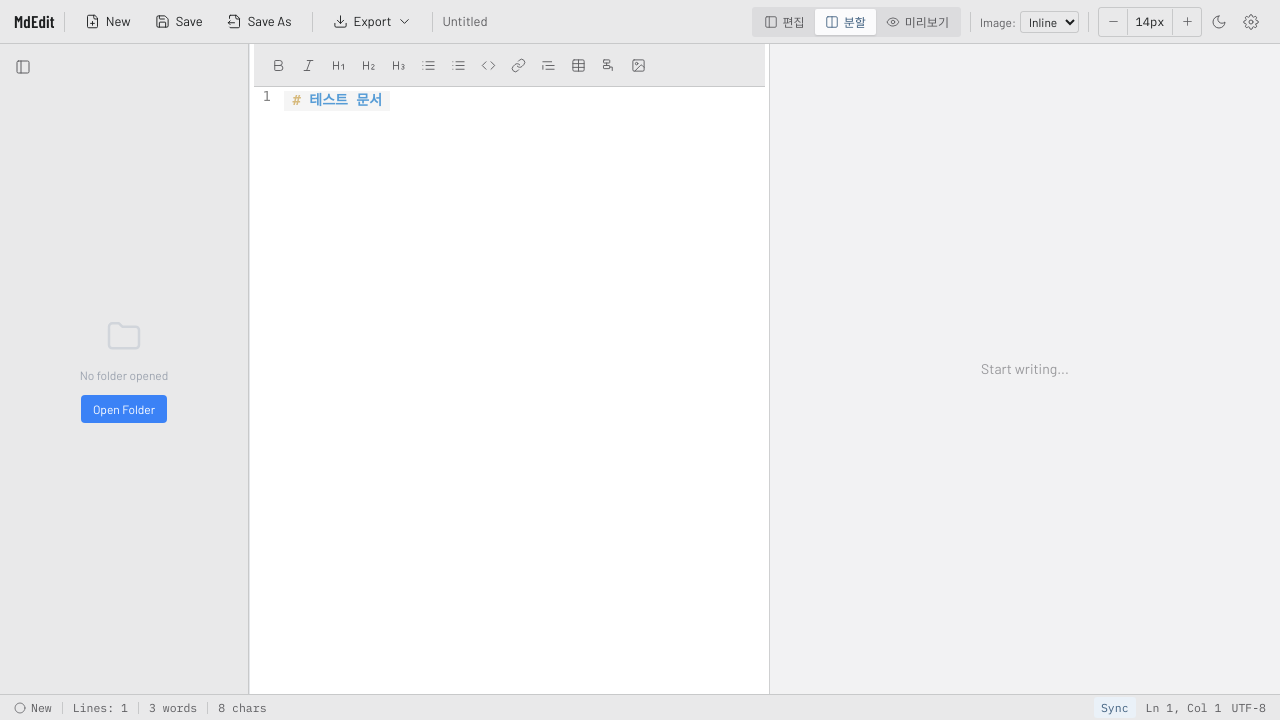
Test: SPEC-EXPORT-004: 누락 이미지 보고 › F4: 누락 12개면 이름 10개와 "외 2개"를 표시한다
Click the button "Export".
click(372, 22)  # box [322,6,423,36]
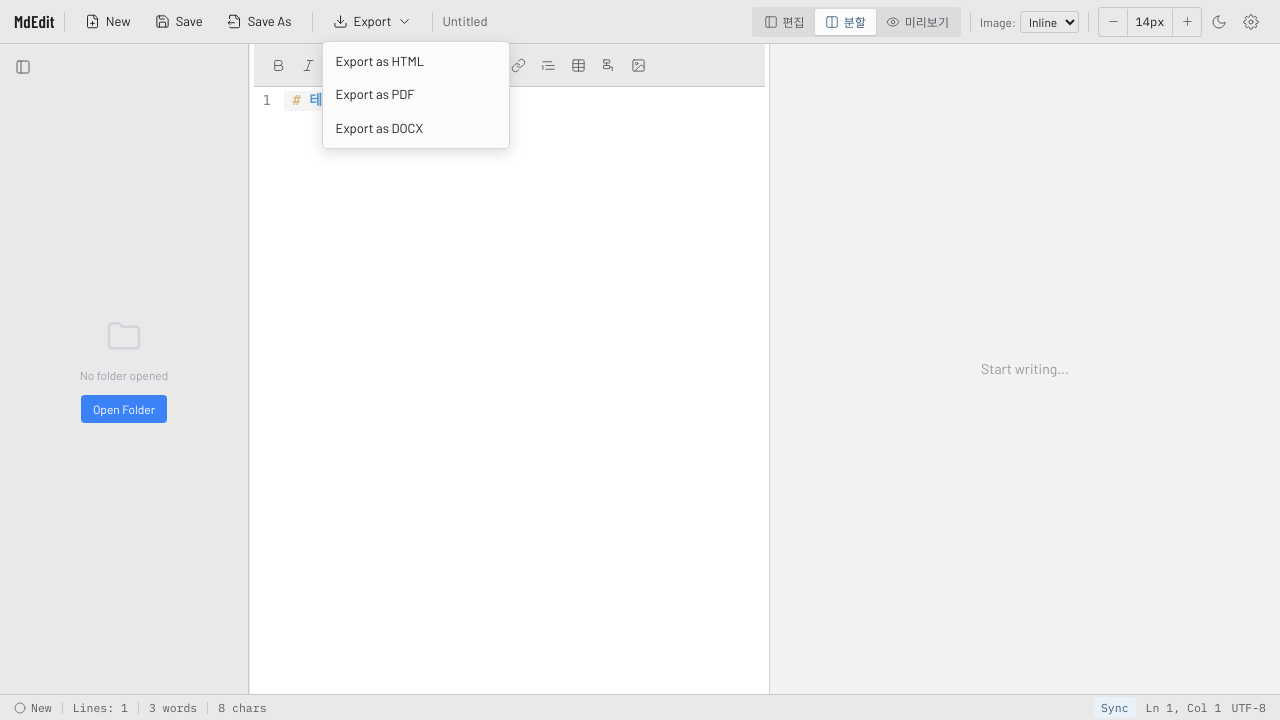
Click the menu item "Export as HTML".
click(416, 61)  # box [326,44,506,78]
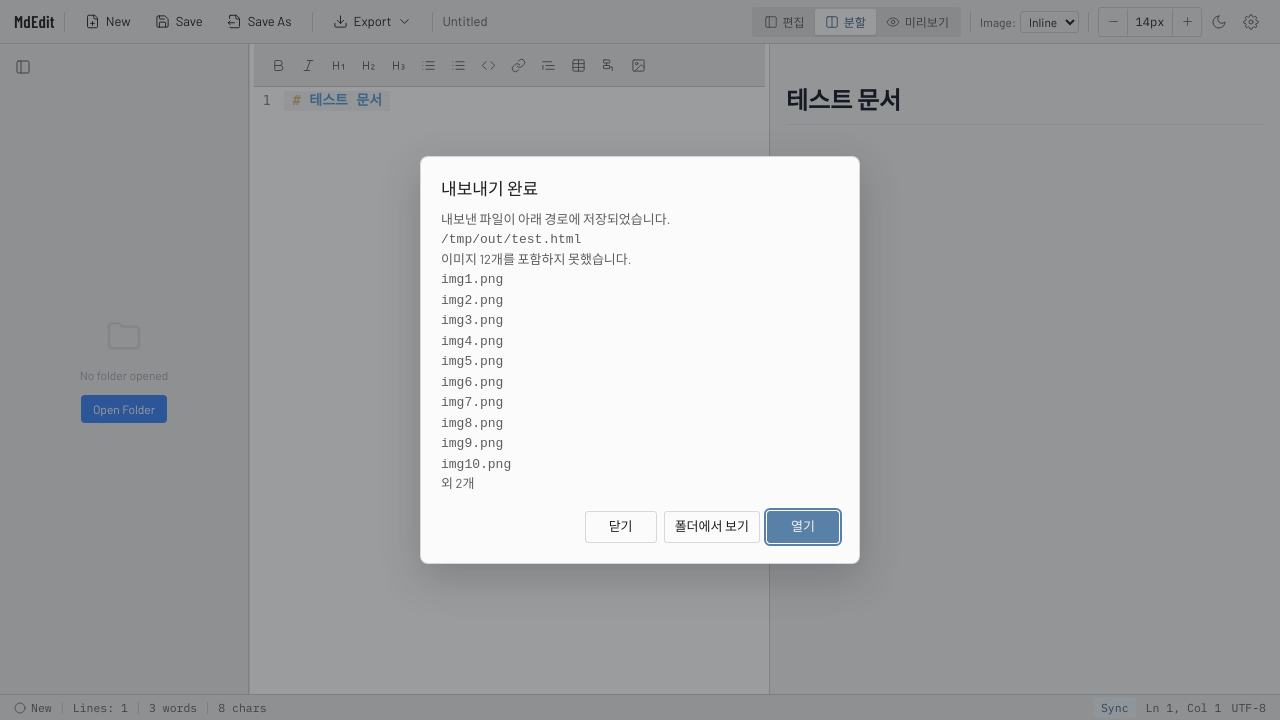
Check: the element with test id "unembedded-images" does not show "img11.png", box [441,250,631,491]
Check: the element with test id "unembedded-images" shows "이미지 12개를 포함하지 못했습니다.", box [441,250,631,491]
Check: the element with test id "unembedded-images" shows "외 2개", box [441,250,631,491]
